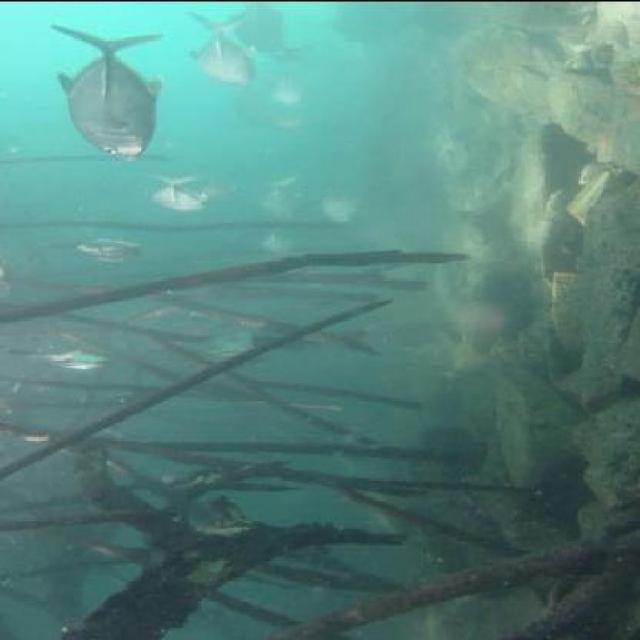Caranx_sexfasciatus_juvenile: (51, 21, 172, 159), (187, 8, 261, 90), (234, 5, 308, 56), (21, 338, 118, 371), (147, 169, 218, 214), (179, 324, 266, 356), (252, 170, 306, 218), (62, 237, 152, 263), (260, 71, 318, 107), (317, 190, 368, 222), (252, 228, 300, 258), (266, 114, 314, 137)
